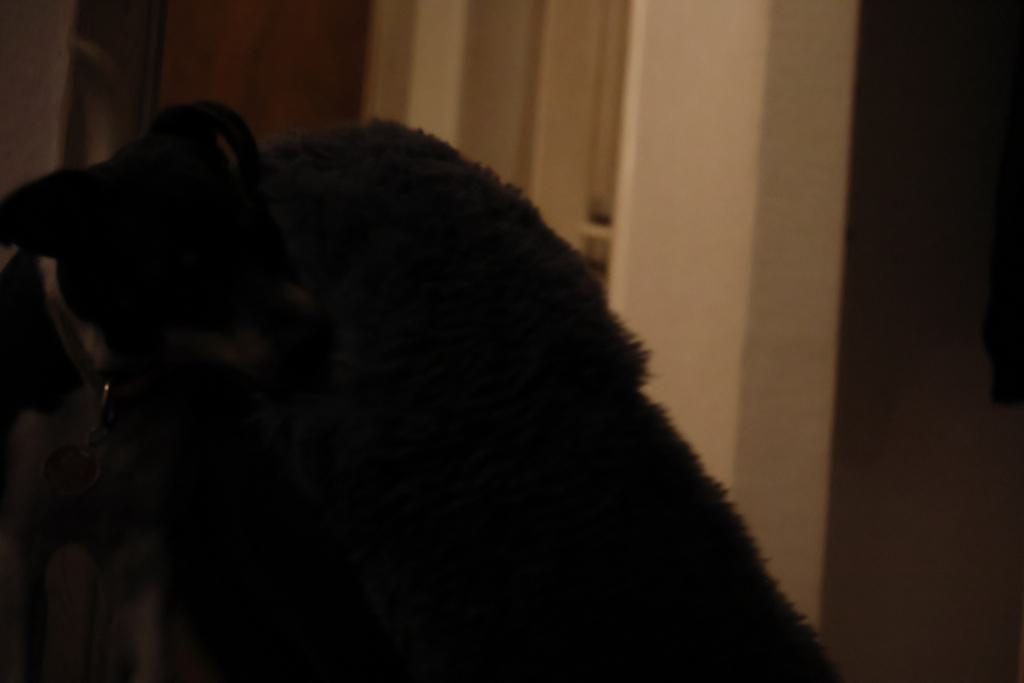Dog: (5, 76, 349, 683)
